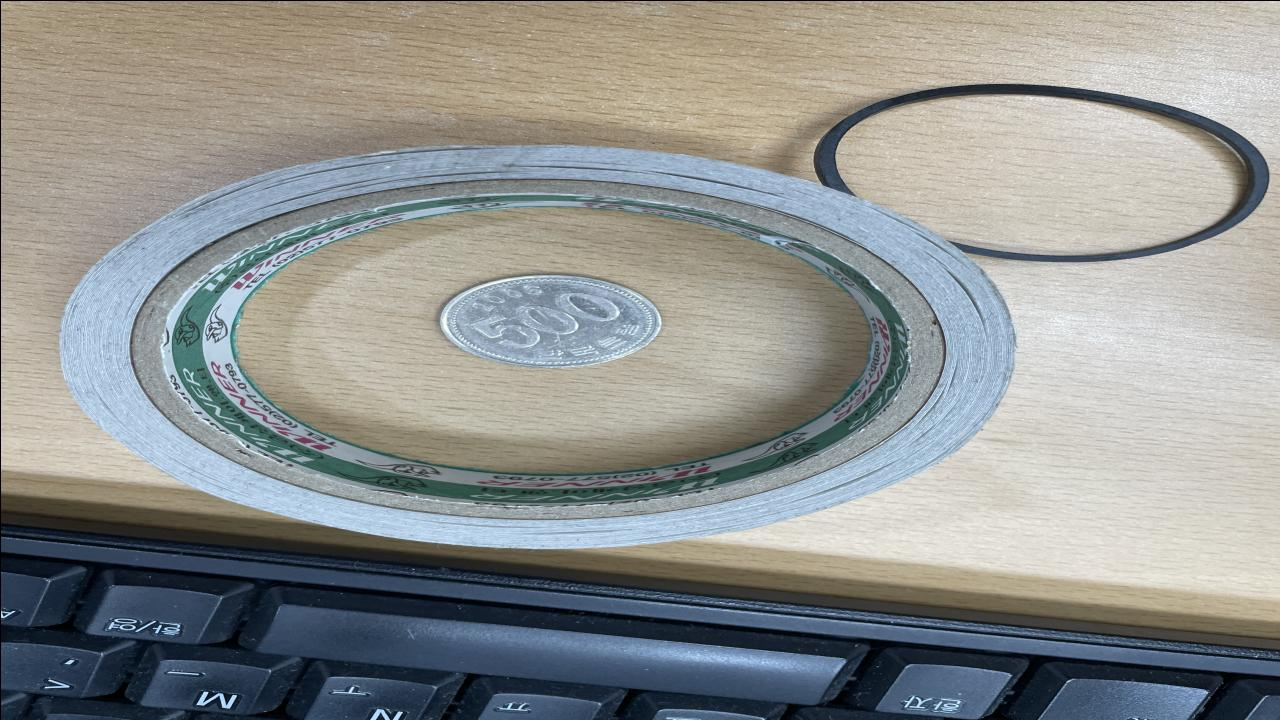coin: (430, 270, 662, 366)
